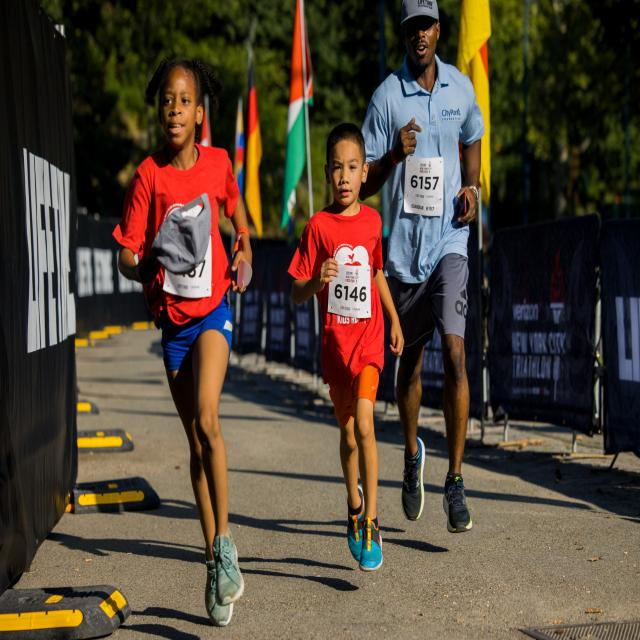Person: (113, 53, 253, 627), (360, 0, 480, 532), (287, 123, 404, 571)
